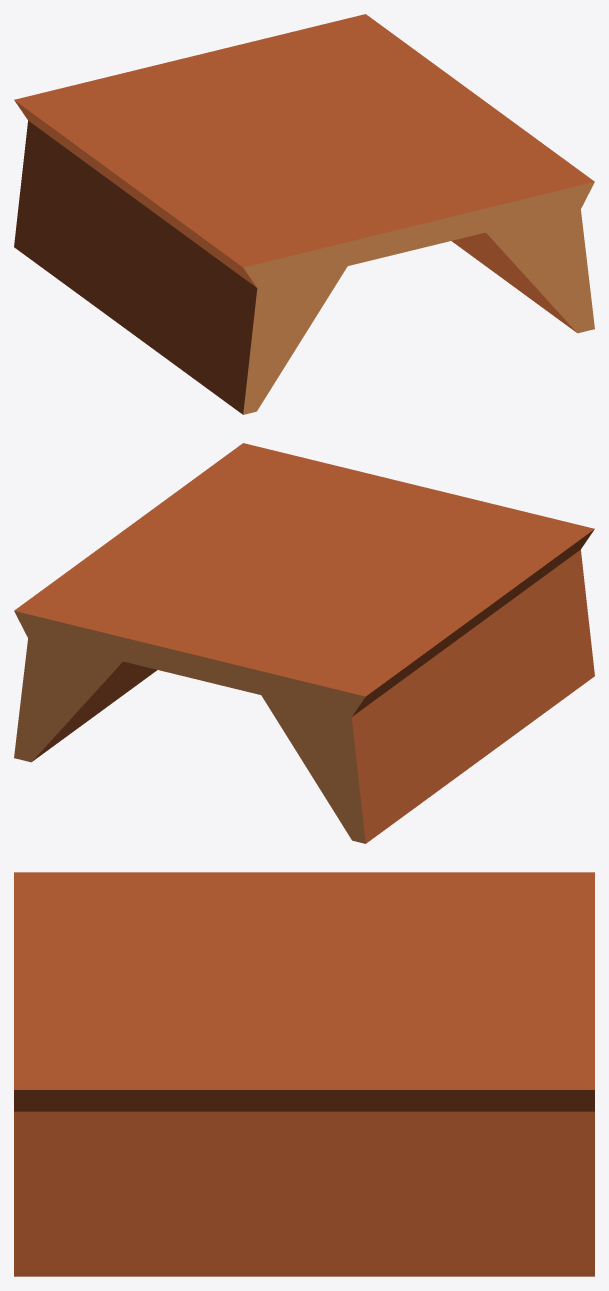
The model's file is BigExteriorTable.fbx.
3 renders of one model, top to bottom at view 1: azimuth 30°, elevation 25°; view 2: azimuth 150°, elevation 25°; view 3: azimuth 270°, elevation 25°, orthographic. The views are drawn at different scales.
Visible parts, largest first — view 1: BigExteriorTable; view 2: BigExteriorTable; view 3: BigExteriorTable.
Part boxes in pixels (left/top/right/bottom): BigExteriorTable: left=14, top=14, right=594, bottom=414; BigExteriorTable: left=14, top=443, right=594, bottom=843; BigExteriorTable: left=14, top=872, right=594, bottom=1276.
Bounding box in the file's own units: 2.25 × 0.9016 × 2.54.
